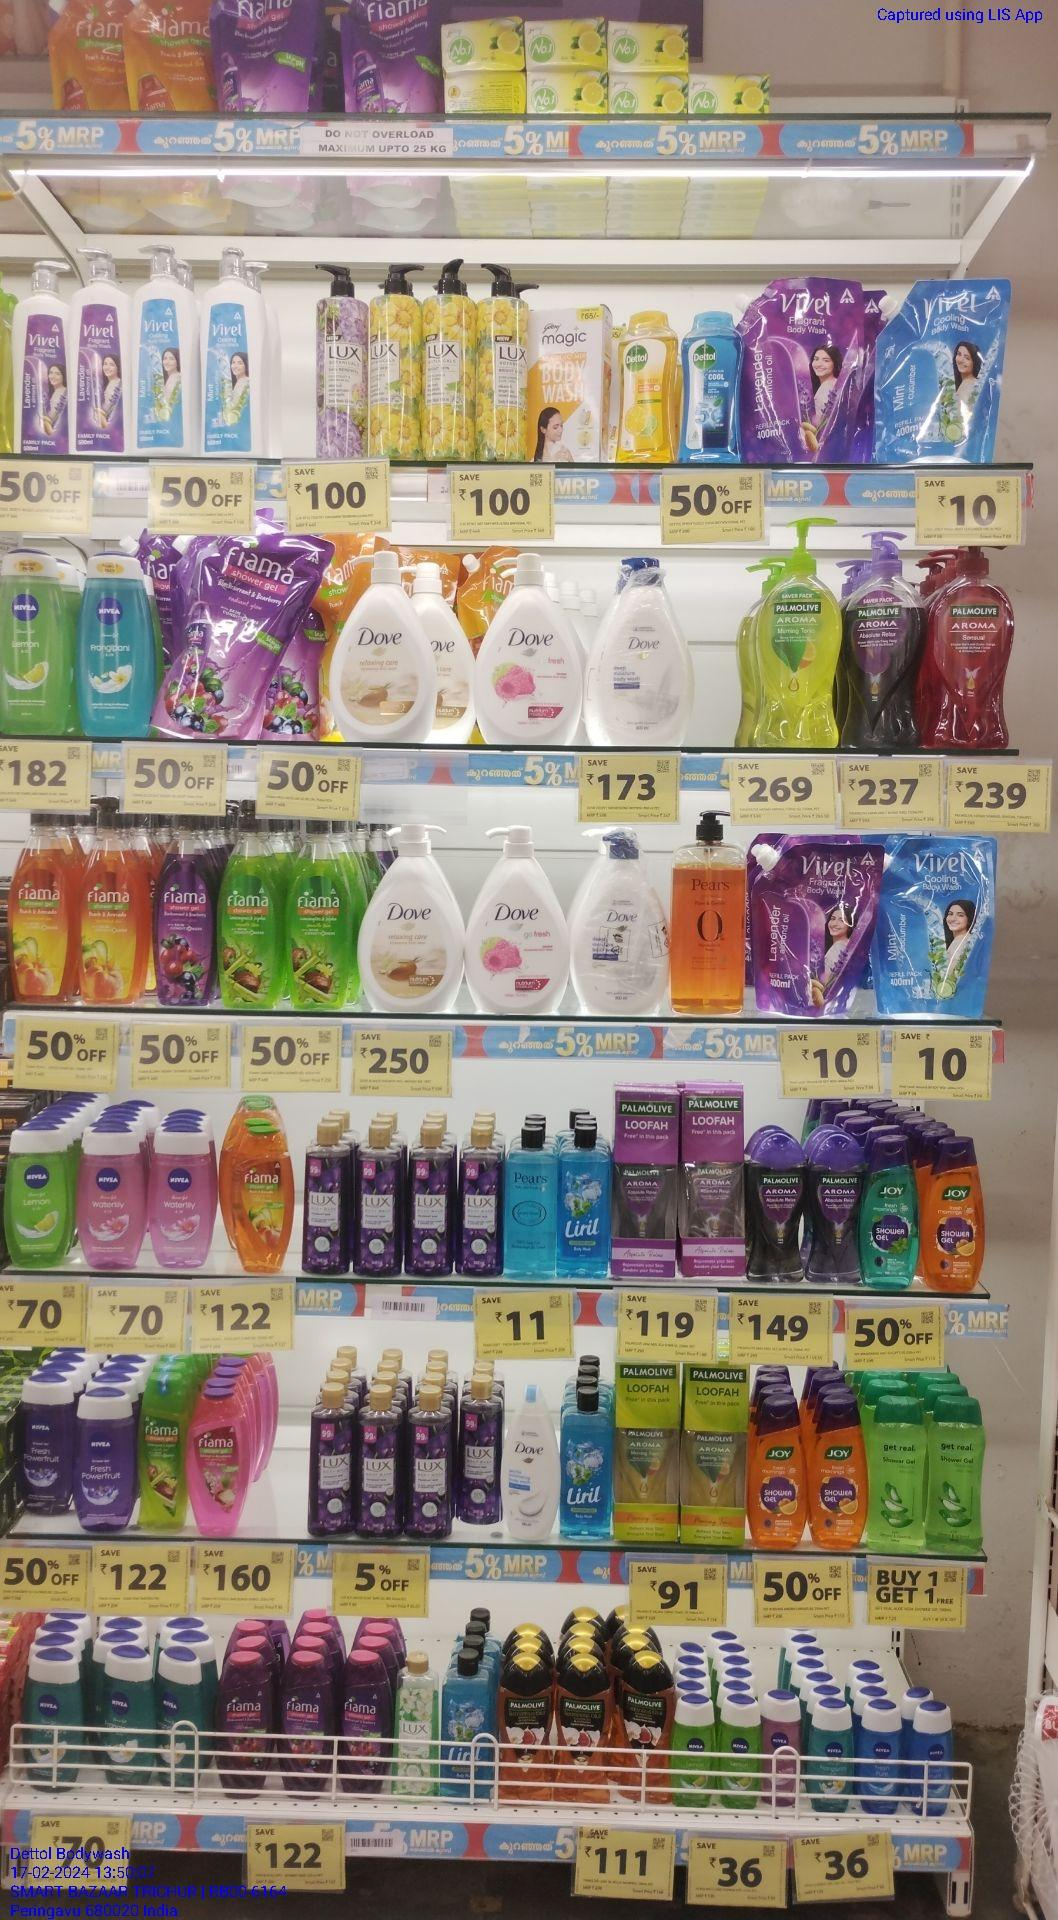Dettol_Bodywash_Cool: (680, 313, 739, 461)
Dettol_Bodywash_Refresh: (622, 313, 672, 462)
Dove_Gentle_Exfoliating_Body_Wash_250ML: (504, 1391, 560, 1537)
Fiama_Shower_Gel_Patchouli_and_Macadamia_250ML: (185, 1390, 244, 1538)
Fiama_Shower_Gel_Peach_and_Avocado_250ML: (229, 1124, 291, 1270)
Joy_Shower_Gel_Mandarin_and_Lemongrass_250ML: (748, 1405, 809, 1551), (928, 1137, 985, 1291), (813, 1400, 865, 1551)
Joy_Shower_Gel_Mint_and_Eucalyptus_250ML: (866, 1140, 917, 1290)
Liril_Cooling_Mint_Body_Wash_250ML: (559, 1125, 612, 1278), (443, 1657, 495, 1798), (563, 1390, 608, 1536)
Lux_Black_Orchid_Scent_and_Juniper_Oil_Body_Wash_245ML: (309, 1386, 353, 1537), (408, 1387, 452, 1537), (305, 1127, 349, 1273), (409, 1128, 452, 1278), (361, 1390, 404, 1537), (361, 1122, 399, 1274), (463, 1127, 500, 1278), (459, 1374, 496, 1523)
Lux_Body_Wash_Skin_Detox_Freesia_Scent_and_Alove_Vera_245ML: (396, 1656, 436, 1795)
Nivea_Shower_Gel_Frangipani_and_Oil_250ML: (22, 1654, 81, 1791), (99, 1653, 151, 1786), (155, 1654, 202, 1792)
Nivea_Shower_Gel_Fresh_Powerfruit_250ML: (69, 1391, 139, 1532), (22, 1376, 65, 1512)
Nivea_Shower_Gel_Lemon_and_Oil_250ML: (9, 1131, 70, 1269)
Nivea_Shower_Gel_Waterlily_and_Oil_250ML: (81, 1131, 146, 1267), (149, 1128, 212, 1264)
Palmolive_Aroma_Relax_250ML: (752, 1137, 807, 1283), (809, 1135, 864, 1280)
Palmolive_Luminous_Oils_With_White_Orchid_Shower_Gel_250ML: (620, 1654, 672, 1801), (502, 1658, 555, 1799), (562, 1659, 611, 1803)
Pears_Pure_Glycerin_and_Mint_Extracts_Body_Wash_250ML: (506, 1128, 558, 1282)
